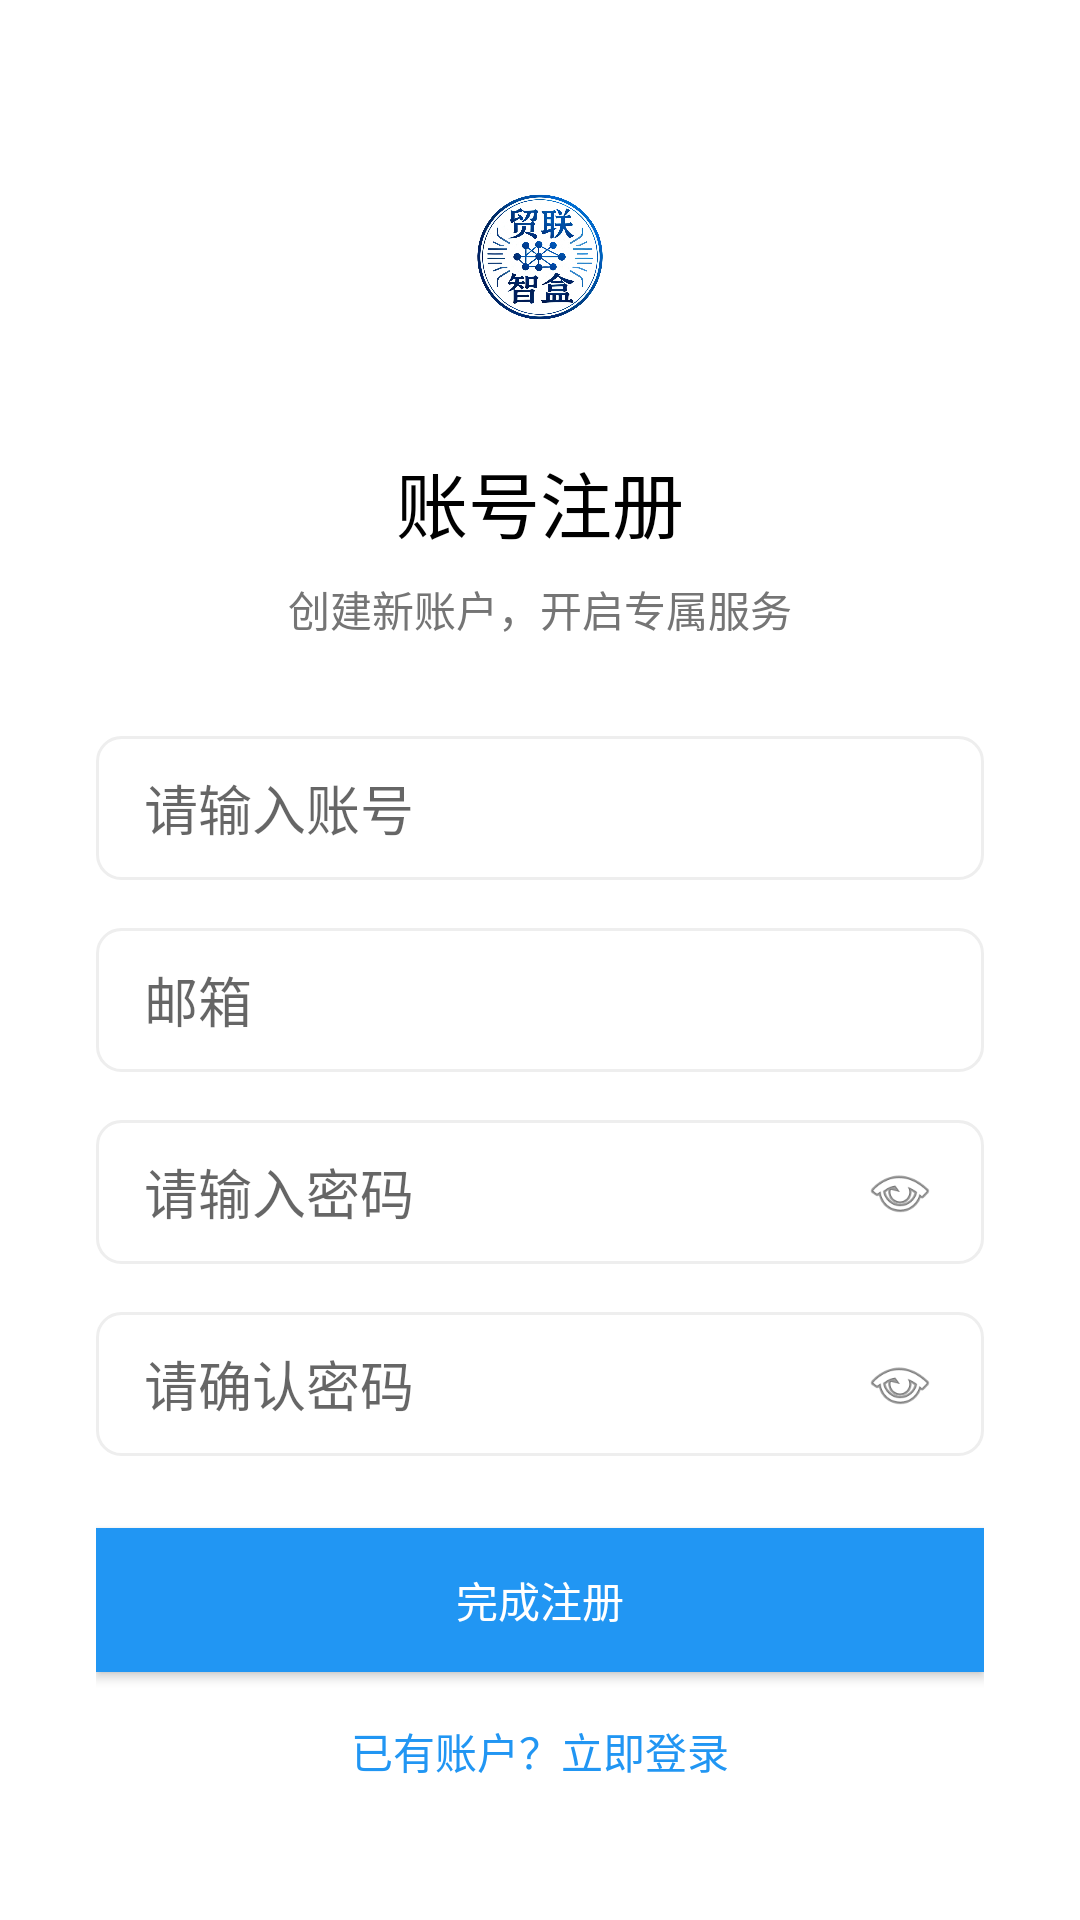

Named icons in this screenshot (1080*1920) and their centers, point (x, y):
切换密码可见性: point (900, 1193), point (900, 1385)
